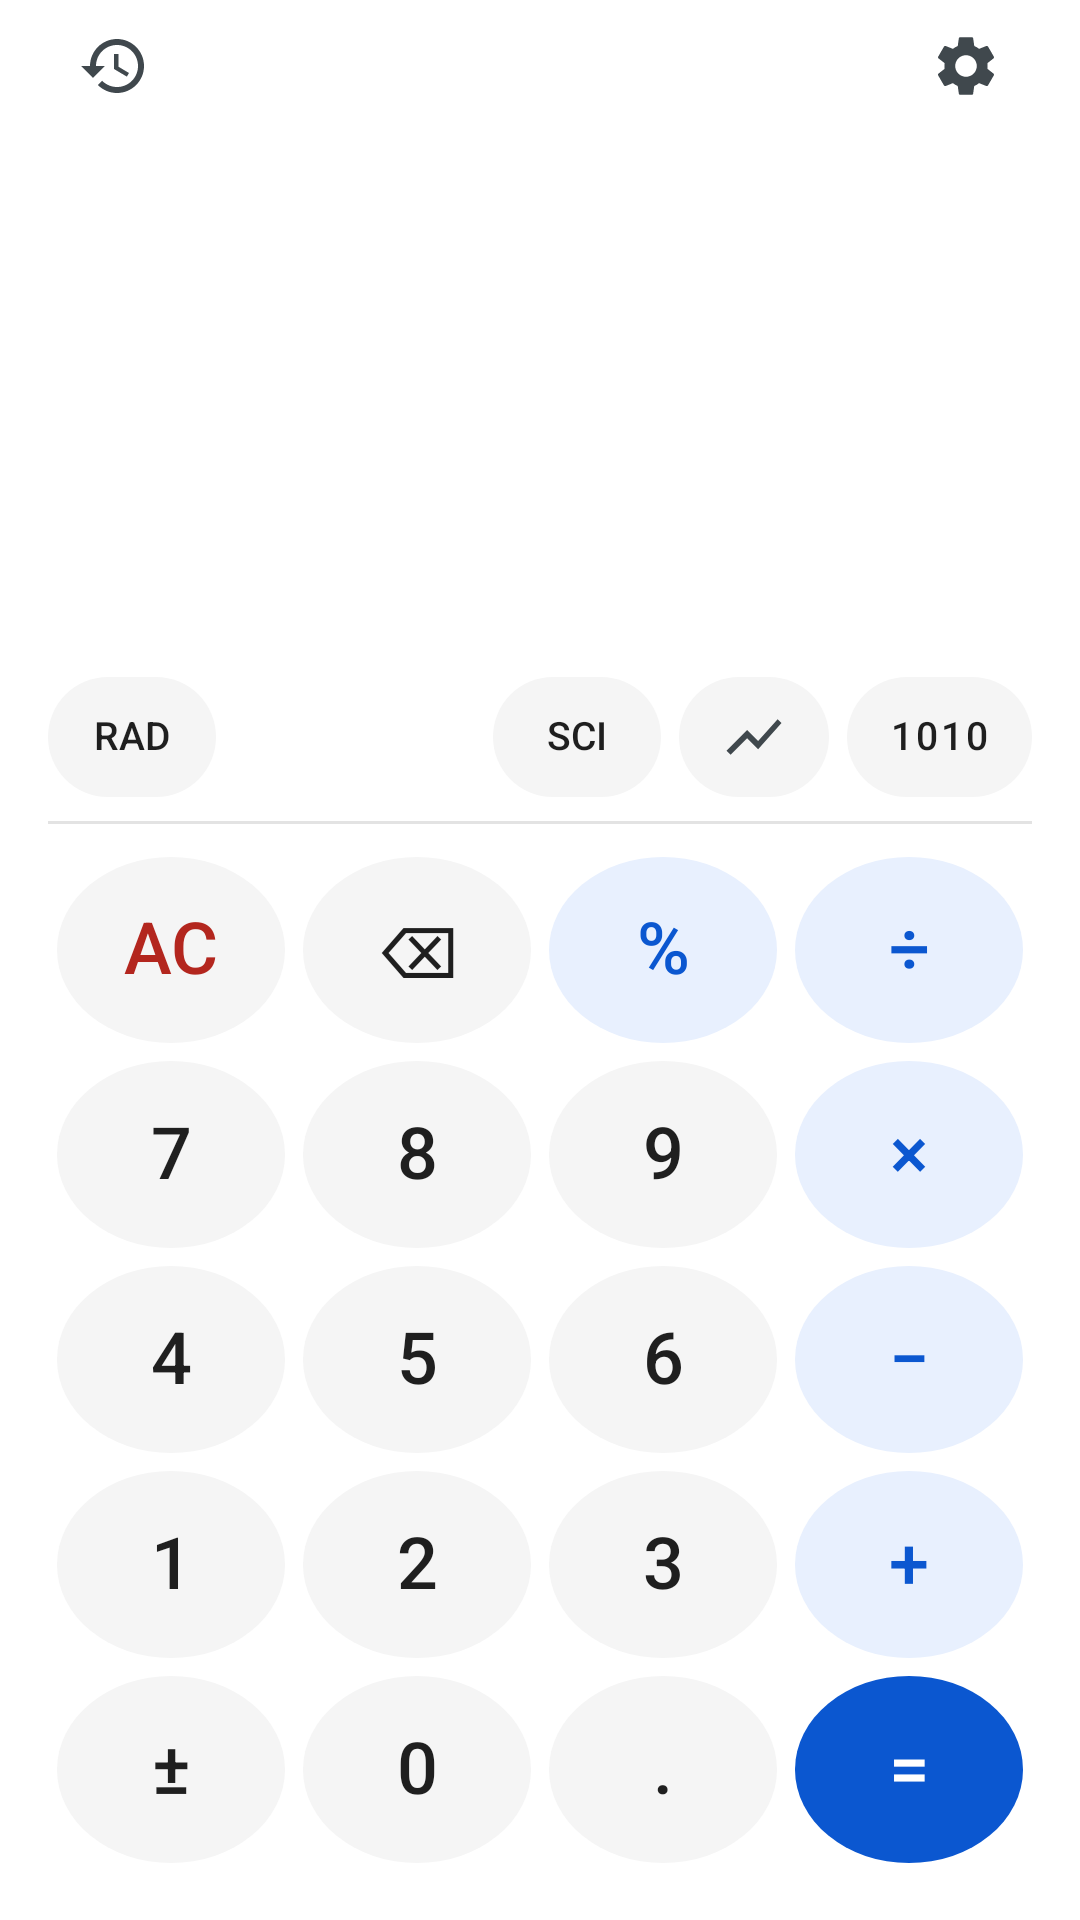

Icons on this 1080 x 1920 Android screen, each with the point to tap as (x=x, y=y):
Graph: (x=754, y=737)
History: (x=112, y=66)
Settings: (x=966, y=66)
